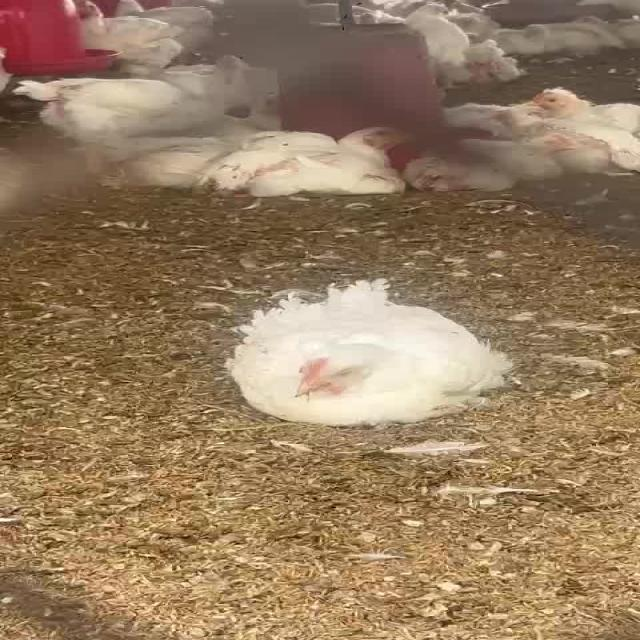AbNormal: (236, 290, 486, 420), (223, 122, 429, 196), (469, 133, 579, 183), (522, 88, 640, 128)
